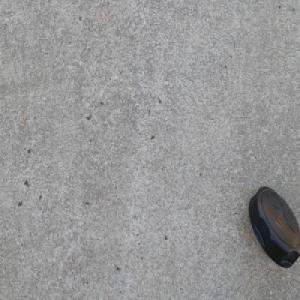FuelCap: (247, 185, 300, 268)
